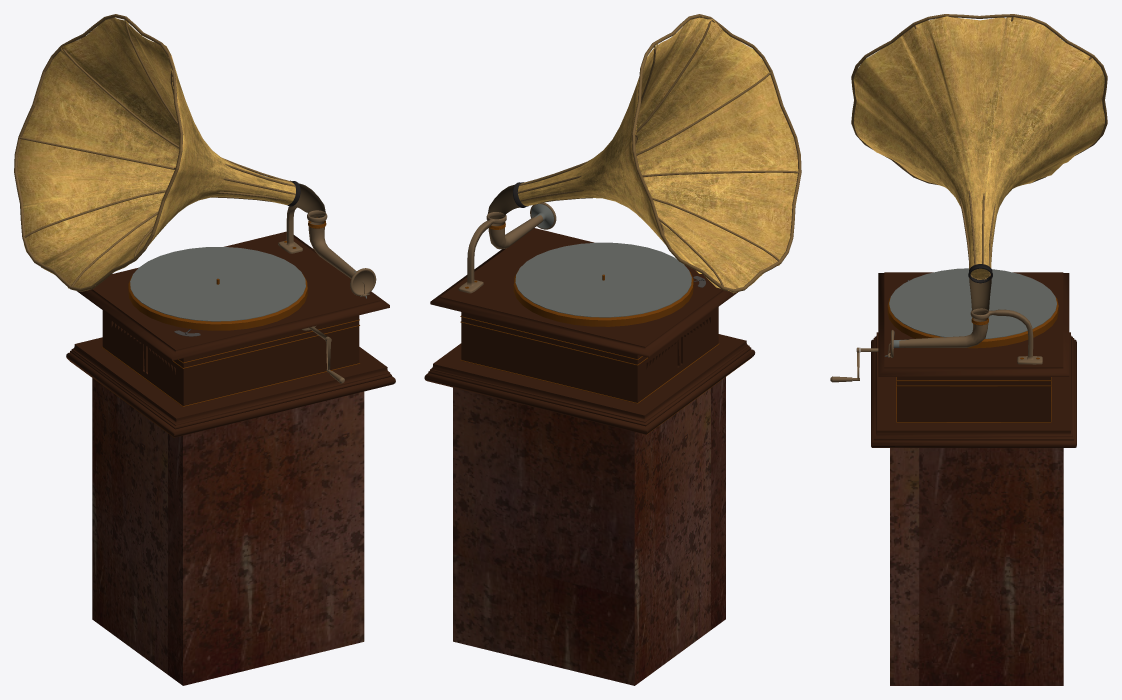
The model's file is Gramophone.fbx.
3 views of the same model, side by side, from view 1: azimuth 30°, elevation 25°; view 2: azimuth 150°, elevation 25°; view 3: azimuth 270°, elevation 25° (orthographic). The views are drawn at different scales.
Visible parts, largest first — view 1: pCube2, polySurface13, pCylinder1, polySurface4, polySurface9, polySurface11; view 2: pCube2, polySurface13, pCylinder1, polySurface9, polySurface4, polySurface11; view 3: pCube2, pCylinder1, polySurface13, polySurface9, polySurface4, polySurface11.
Boxes of the visible parts, <box> form: pCube2: <box>92,378,364,685</box>; polySurface13: <box>66,206,395,437</box>; pCylinder1: <box>17,17,295,290</box>; polySurface4: <box>19,19,295,286</box>; polySurface9: <box>14,14,183,291</box>; polySurface11: <box>294,183,325,217</box>; pCube2: <box>453,377,725,685</box>; polySurface13: <box>424,202,755,434</box>; pCylinder1: <box>518,16,798,293</box>; polySurface9: <box>632,14,801,292</box>; polySurface4: <box>517,20,799,286</box>; polySurface11: <box>487,184,519,223</box>; pCube2: <box>890,448,1063,685</box>; pCylinder1: <box>853,16,1104,279</box>; polySurface13: <box>830,268,1076,447</box>; polySurface9: <box>851,14,1107,184</box>; polySurface4: <box>914,17,1091,280</box>; polySurface11: <box>969,277,991,319</box>.
Bounding box in the file's own units: 49.96 × 103 × 43.93.
